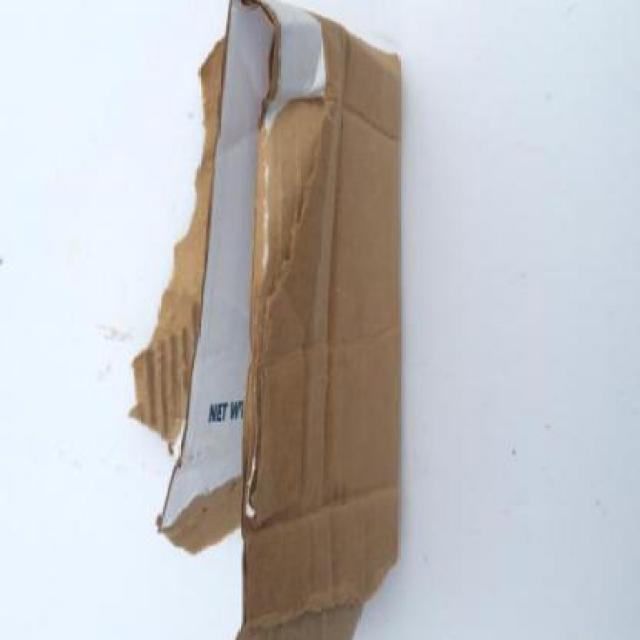box: (117, 0, 458, 640)
